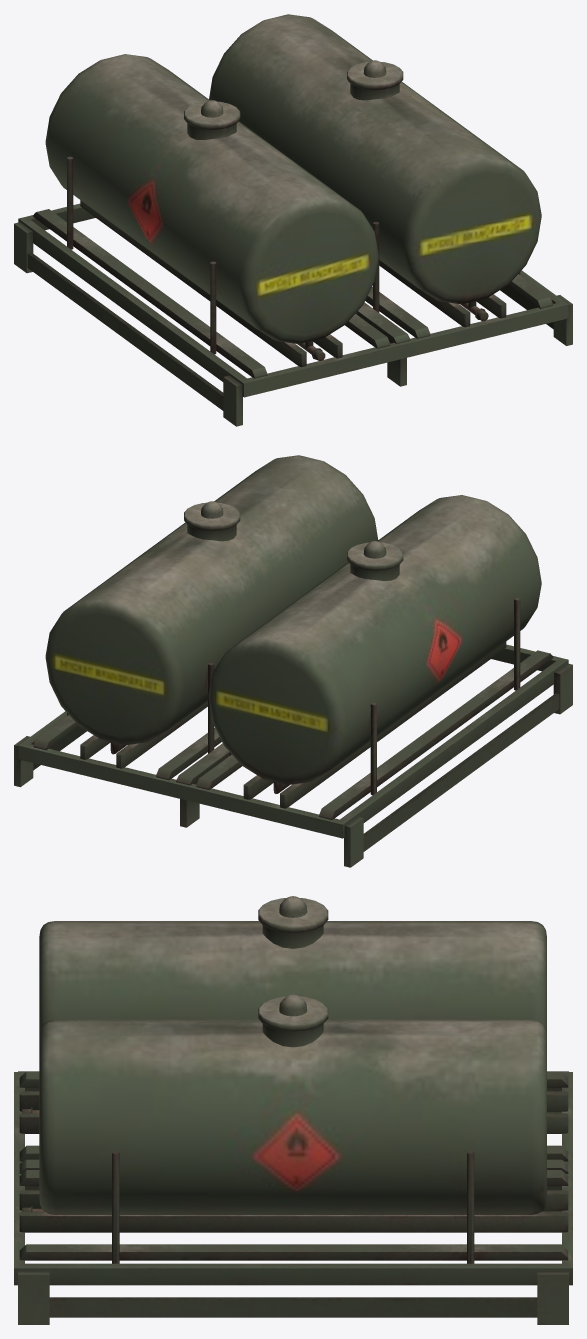
The model's file is obj_rtank.glb.
The picture shows the model from 3 angles, top to bottom: view 1: azimuth 30°, elevation 25°; view 2: azimuth 150°, elevation 25°; view 3: azimuth 270°, elevation 25°; orthographic projection. The views are drawn at different scales.
Parts seen in each view (by area): view 1: body|Standardmaterial; view 2: body|Standardmaterial; view 3: body|Standardmaterial.
Part boxes in pixels (bbox=[...]): body|Standardmaterial: bbox=[14, 14, 572, 426]; body|Standardmaterial: bbox=[14, 455, 572, 867]; body|Standardmaterial: bbox=[14, 896, 572, 1324].
Size of the model in its own units: 8.62 by 5.45 by 10.
Materials: 1 (1 with a texture image).
